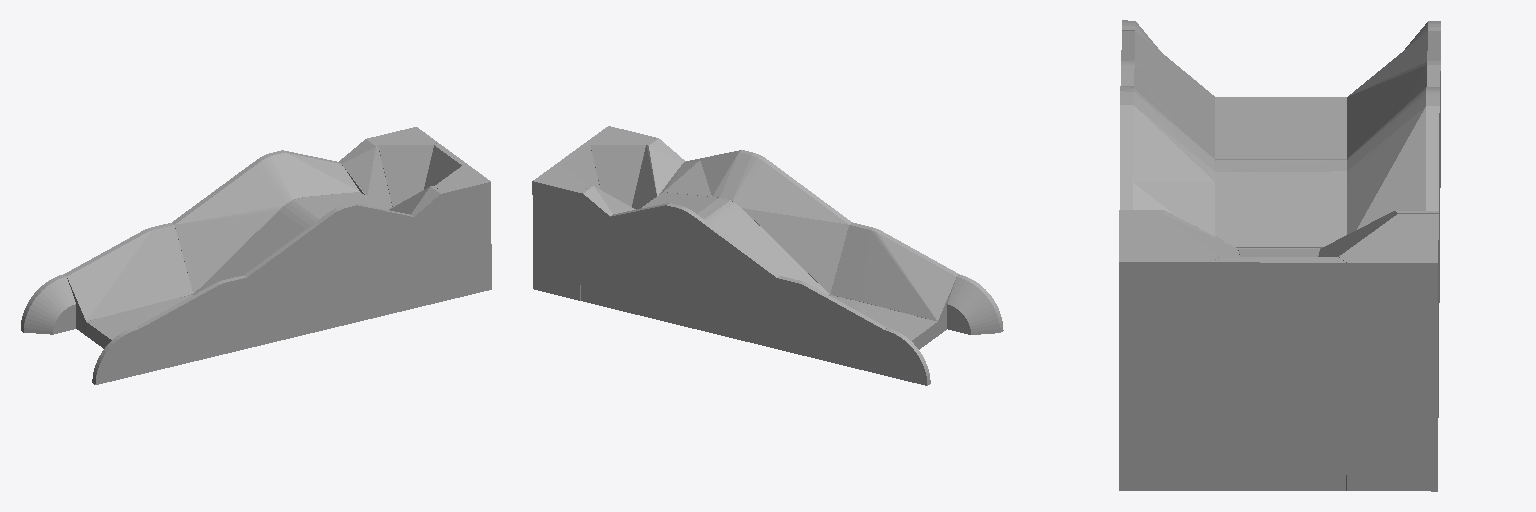
The robot description file, URDF, robot "ramp":
<?xml version="1.0"?>
<robot name="ramp">

  <link name="ramp_link">

    <!-- Approximate mass/inertia -->
    <inertial>
      <origin xyz="0.1016 0 0.0254" rpy="0 0 0"/>
      <mass value="1.0"/>
      <inertia
        ixx="0.001"
        ixy="0.0"
        ixz="0.0"
        iyy="0.001"
        iyz="0.0"
        izz="0.001"/>
    </inertial>

    <!-- Ramp (mesh) -->

    <visual name="ramp_part_1">
      <origin xyz="0 0 0" rpy="1.5708 0 0"/>
      <geometry>
        <mesh filename="ramp1.obj" scale="0.001 0.001 0.001"/>
      </geometry>
      <material name="gray">
        <color rgba="0.7 0.7 0.7 1.0"/>
      </material>
    </visual>

    <collision name="ramp_part_1">
      <origin xyz="0 0 0" rpy="1.5708 0 0"/>
      <geometry>
        <mesh filename="ramp1.obj" scale="0.001 0.001 0.001"/>
      </geometry>
    </collision>

    <visual name="ramp_part_2">
      <origin xyz="0 0 0" rpy="1.5708 0 0"/>
      <geometry>
        <mesh filename="ramp2.obj" scale="0.001 0.001 0.001"/>
      </geometry>
      <material name="gray">
        <color rgba="0.7 0.7 0.7 1.0"/>
      </material>
    </visual>

    <collision name="ramp_part_2">
      <origin xyz="0 0 0" rpy="1.5708 0 0"/>
      <geometry>
        <mesh filename="ramp2.obj" scale="0.001 0.001 0.001"/>
      </geometry>
    </collision>

    <visual name="ramp_part_3">
      <origin xyz="0 0 0" rpy="1.5708 0 0"/>
      <geometry>
        <mesh filename="ramp3.obj" scale="0.001 0.001 0.001"/>
      </geometry>
      <material name="gray">
        <color rgba="0.7 0.7 0.7 1.0"/>
      </material>
    </visual>

    <collision name="ramp_part_3">
      <origin xyz="0 0 0" rpy="1.5708 0 0"/>
      <geometry>
        <mesh filename="ramp3.obj" scale="0.001 0.001 0.001"/>
      </geometry>
    </collision>

    <visual name="ramp_part_4">
      <origin xyz="0 0 0" rpy="1.5708 0 0"/>
      <geometry>
        <mesh filename="ramp4.obj" scale="0.001 0.001 0.001"/>
      </geometry>
      <material name="gray">
        <color rgba="0.7 0.7 0.7 1.0"/>
      </material>
    </visual>

    <collision name="ramp_part_4">
      <origin xyz="0 0 0" rpy="1.5708 0 0"/>
      <geometry>
        <mesh filename="ramp4.obj" scale="0.001 0.001 0.001"/>
      </geometry>
    </collision>

    <visual name="ramp_part_5">
      <origin xyz="0 0 0" rpy="1.5708 0 0"/>
      <geometry>
        <mesh filename="ramp5.obj" scale="0.001 0.001 0.001"/>
      </geometry>
      <material name="gray">
        <color rgba="0.7 0.7 0.7 1.0"/>
      </material>
    </visual>

    <collision name="ramp_part_5">
      <origin xyz="0 0 0" rpy="1.5708 0 0"/>
      <geometry>
        <mesh filename="ramp5.obj" scale="0.001 0.001 0.001"/>
      </geometry>
    </collision>

    <visual name="ramp_part_6">
      <origin xyz="0 0 0" rpy="1.5708 0 0"/>
      <geometry>
        <mesh filename="ramp6.obj" scale="0.001 0.001 0.001"/>
      </geometry>
      <material name="gray">
        <color rgba="0.7 0.7 0.7 1.0"/>
      </material>
    </visual>
    <collision name="ramp_part_6">
      <origin xyz="0 0 0" rpy="1.5708 0 0"/>
      <geometry>
        <mesh filename="ramp6.obj" scale="0.001 0.001 0.001"/>
      </geometry>
    </collision>  

    <visual name="ramp_part_7">
      <origin xyz="0 0 0" rpy="1.5708 0 0"/>
      <geometry>
        <mesh filename="ramp7.obj" scale="0.001 0.001 0.001"/>
      </geometry>
      <material name="gray">
        <color rgba="0.7 0.7 0.7 1.0"/>
      </material>
    </visual>
    <collision name="ramp_part_7">
      <origin xyz="0 0 0" rpy="1.5708 0 0"/>
      <geometry>
        <mesh filename="ramp7.obj" scale="0.001 0.001 0.001"/>
      </geometry>
    </collision>  


    <visual name="ramp_part_8">
      <origin xyz="0 0 0" rpy="1.5708 0 0"/>
      <geometry>
        <mesh filename="ramp8.obj" scale="0.001 0.001 0.001"/>
      </geometry>
      <material name="gray">
        <color rgba="0.7 0.7 0.7 1.0"/>
      </material>
    </visual>
    <collision name="ramp_part_8">
      <origin xyz="0 0 0" rpy="1.5708 0 0"/>
      <geometry>
        <mesh filename="ramp8.obj" scale="0.001 0.001 0.001"/>
      </geometry>
    </collision>  

    <visual name="ramp_part_9">
      <origin xyz="0 0 0" rpy="1.5708 0 0"/>
      <geometry>
        <mesh filename="ramp9.obj" scale="0.001 0.001 0.001"/>
      </geometry>
      <material name="gray">
        <color rgba="0.7 0.7 0.7 1.0"/>
      </material>
    </visual>
    <collision name="ramp_part_9">    
      <origin xyz="0 0 0" rpy="1.5708 0 0"/>
      <geometry>
        <mesh filename="ramp9.obj" scale="0.001 0.001 0.001"/>
      </geometry>
    </collision>

    <visual name="ramp_part_10">
      <origin xyz="0 0 0" rpy="1.5708 0 0"/>
      <geometry>
        <mesh filename="ramp10.obj" scale="0.001 0.001 0.001"/>
      </geometry>
      <material name="gray">
        <color rgba="0.7 0.7 0.7 1.0"/>
      </material>
    </visual>
    <collision name="ramp_part_10">
      <origin xyz="0 0 0" rpy="1.5708 0 0"/>
      <geometry>
        <mesh filename="ramp10.obj" scale="0.001 0.001 0.001"/>
      </geometry>
    </collision>

    <visual name="ramp_part_11">
      <origin xyz="0 0 0" rpy="1.5708 0 0"/>
      <geometry>
        <mesh filename="ramp11.obj" scale="0.001 0.001 0.001"/>
      </geometry>
      <material name="gray">
        <color rgba="0.7 0.7 0.7 1.0"/>
      </material>
    </visual>
    <collision name="ramp_part_11">
      <origin xyz="0 0 0" rpy="1.5708 0 0"/>
      <geometry>
        <mesh filename="ramp11.obj" scale="0.001 0.001 0.001"/>
      </geometry>
    </collision>

    <visual name="ramp_part_12">
      <origin xyz="0 0 0" rpy="1.5708 0 0"/>
      <geometry>
        <mesh filename="ramp12.obj" scale="0.001 0.001 0.001"/>
      </geometry>
      <material name="gray">
        <color rgba="0.7 0.7 0.7 1.0"/>
      </material>
    </visual>
    <collision name="ramp_part_12">
      <origin xyz="0 0 0" rpy="1.5708 0 0"/>
      <geometry>
        <mesh filename="ramp12.obj" scale="0.001 0.001 0.001"/>
      </geometry>
    </collision>  

    <visual name="ramp_part_13">
      <origin xyz="0 0 0" rpy="1.5708 0 0"/>
      <geometry>
        <mesh filename="ramp13.obj" scale="0.001 0.001 0.001"/>
      </geometry>
      <material name="gray">
        <color rgba="0.7 0.7 0.7 1.0"/>
      </material>
    </visual>
    <collision name="ramp_part_13">
      <origin xyz="0 0 0" rpy="1.5708 0 0"/>
      <geometry>
        <mesh filename="ramp13.obj" scale="0.001 0.001 0.001"/>
      </geometry>
    </collision>

    <visual name="ramp_part_14">
      <origin xyz="0 0 0" rpy="1.5708 0 0"/>
      <geometry>
        <mesh filename="ramp14.obj" scale="0.001 0.001 0.001"/>
      </geometry>
      <material name="gray">
        <color rgba="0.7 0.7 0.7 1.0"/>
      </material>
    </visual>
    <collision name="ramp_part_14">
      <origin xyz="0 0 0" rpy="1.5708 0 0"/>
      <geometry>
        <mesh filename="ramp14.obj" scale="0.001 0.001 0.001"/>
      </geometry>
    </collision>
    

  </link>

</robot>

--- Render facts (derived) ---
The picture shows the robot from 3 angles, left to right: view 1: azimuth 30°, elevation 25°; view 2: azimuth 150°, elevation 25°; view 3: azimuth 270°, elevation 25°; orthographic projection.
Model ramp with 1 links and 0 joints (none), rooted at ramp_link, posed every joint at zero.
Links seen in each view (by area): view 1: ramp_link; view 2: ramp_link; view 3: ramp_link.
Link boxes in pixels (bbox=[...]): ramp_link: bbox=[21, 127, 491, 384]; ramp_link: bbox=[532, 126, 1003, 385]; ramp_link: bbox=[1119, 20, 1440, 491].
Size in the robot's own frame: 0.1846 by 0.0616 by 0.0522 metres.
14 mesh visuals loaded from 14 distinct referenced files (14 OBJ).
